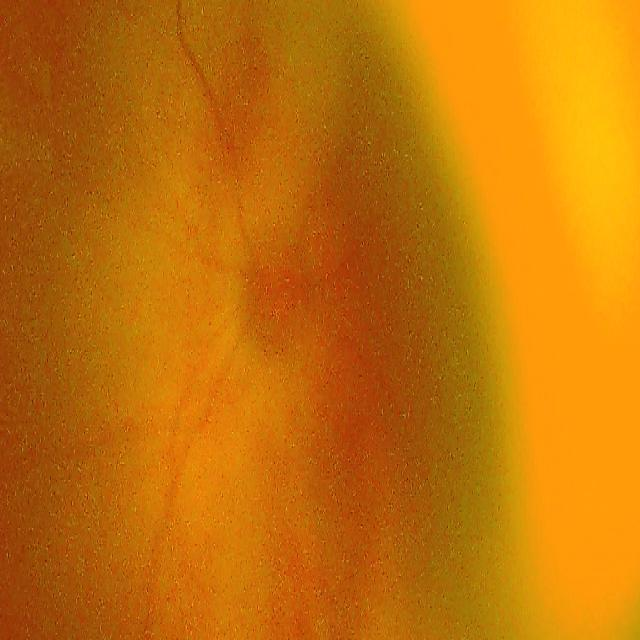optic-nerve: (226, 208, 332, 388)
